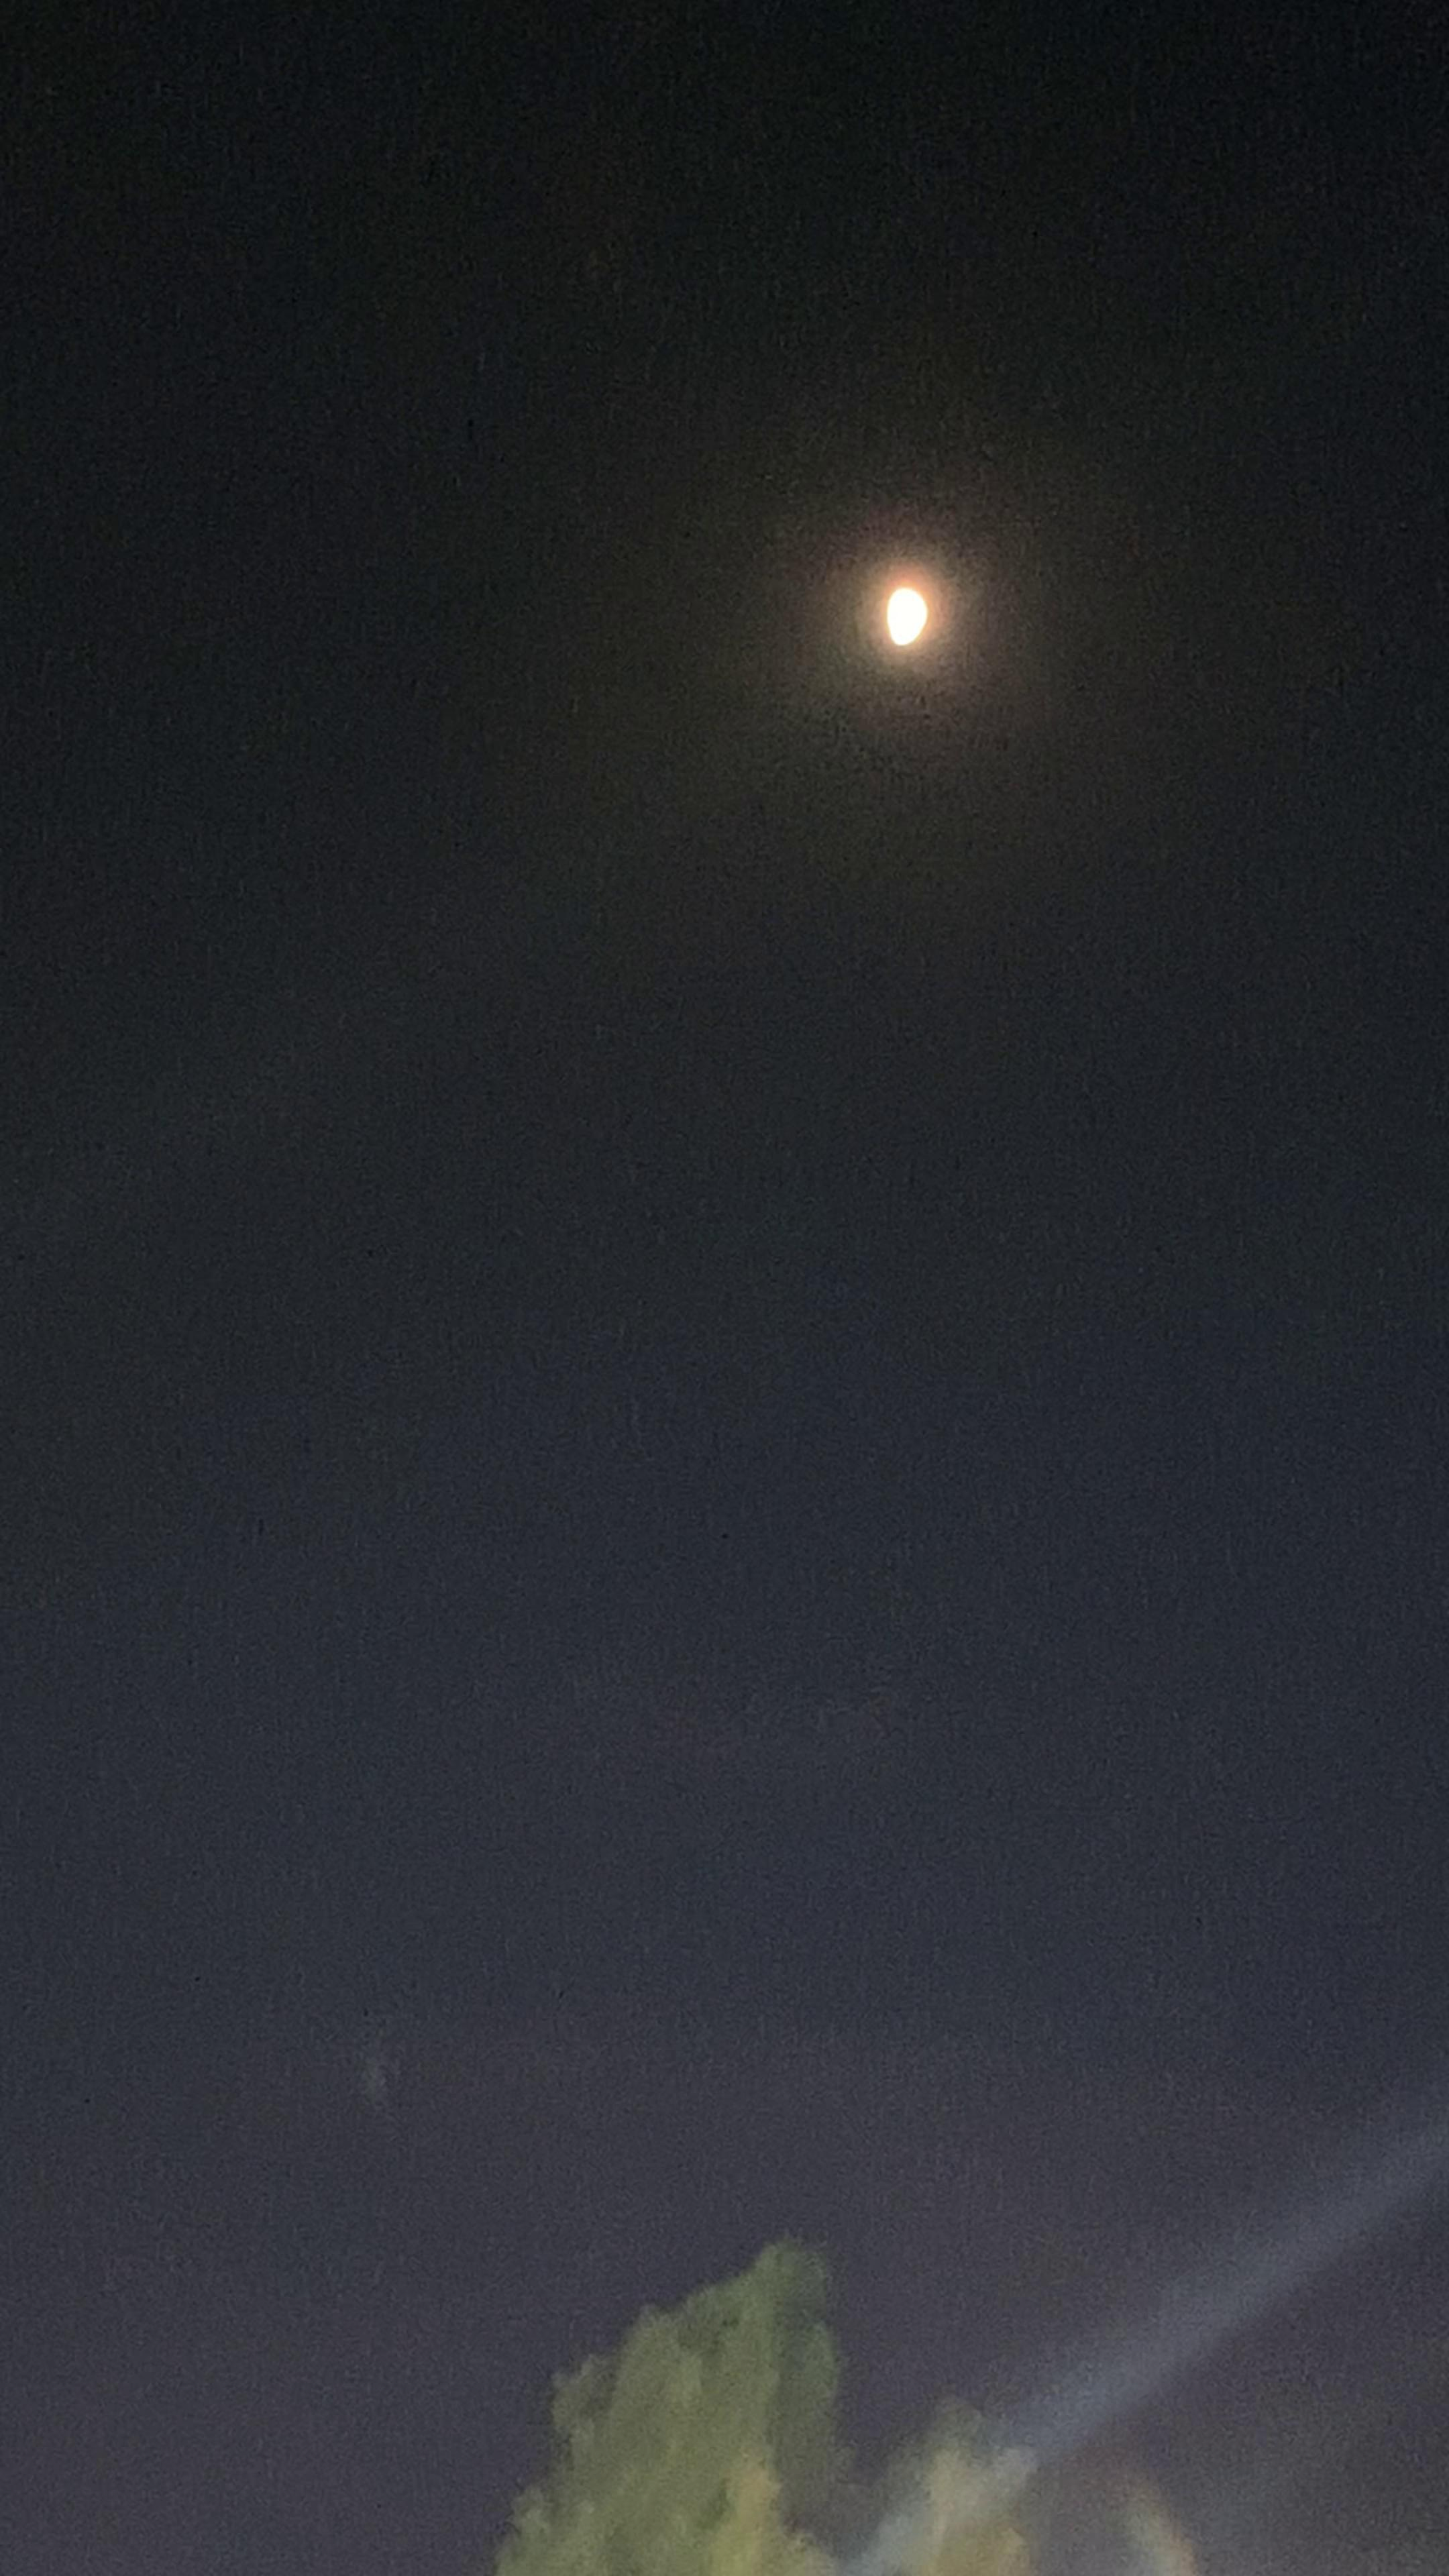moon: (855, 548, 971, 676)
